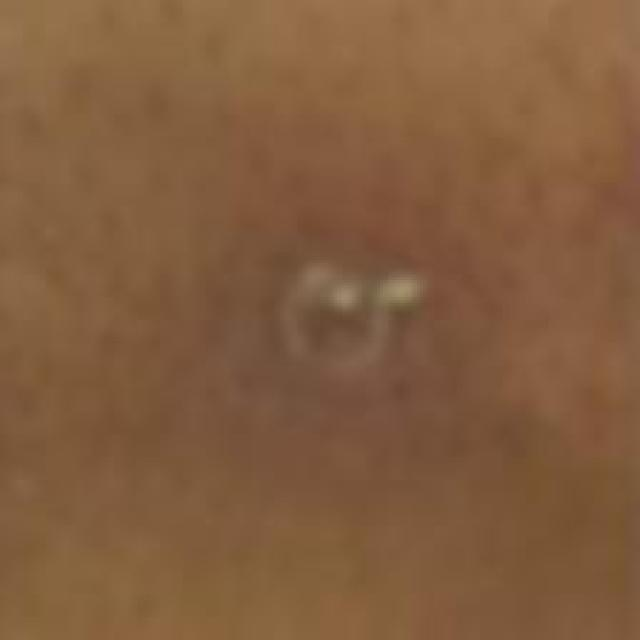monkeypox: (120, 67, 608, 610)
